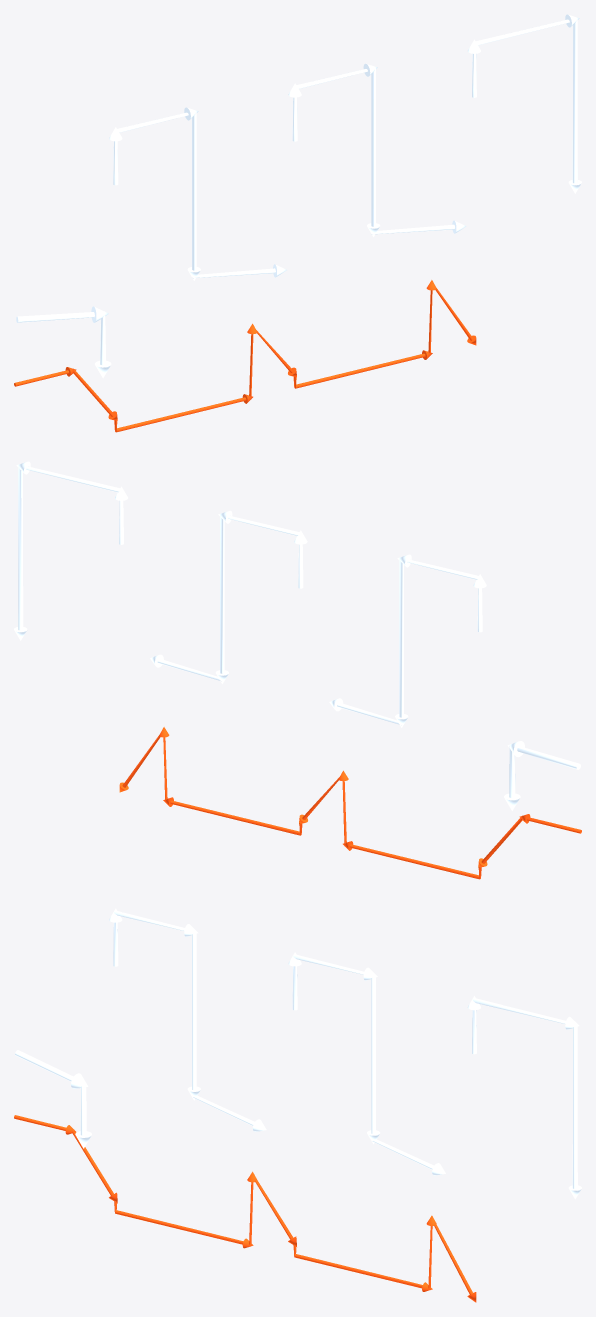
Rendered from multiple_effect_evaporator_flow.glb.
3 views of the same model, one above another, from view 1: azimuth 30°, elevation 25°; view 2: azimuth 150°, elevation 25°; view 3: azimuth 330°, elevation 25° (orthographic).
Visible parts, largest first — view 1: liquor, vapour_1_to_2, vapour_2_to_3, last_vapour, live_steam; view 2: liquor, vapour_1_to_2, vapour_2_to_3, last_vapour, live_steam; view 3: liquor, vapour_2_to_3, vapour_1_to_2, last_vapour, live_steam.
Part boxes in pixels (<box>): liquor: <box>14,280,476,432</box>; vapour_1_to_2: <box>109,107,286,280</box>; vapour_2_to_3: <box>288,63,466,236</box>; last_vapour: <box>468,14,581,193</box>; live_steam: <box>16,306,111,378</box>; liquor: <box>119,727,581,879</box>; vapour_1_to_2: <box>329,554,486,727</box>; vapour_2_to_3: <box>150,510,307,683</box>; last_vapour: <box>14,461,127,640</box>; live_steam: <box>504,741,580,810</box>; liquor: <box>14,1115,476,1302</box>; vapour_2_to_3: <box>288,952,445,1175</box>; vapour_1_to_2: <box>109,908,266,1131</box>; last_vapour: <box>467,996,581,1199</box>; live_steam: <box>15,1050,91,1148</box>.
Size of the model in its own units: 5.05 by 2.64 by 0.267.
